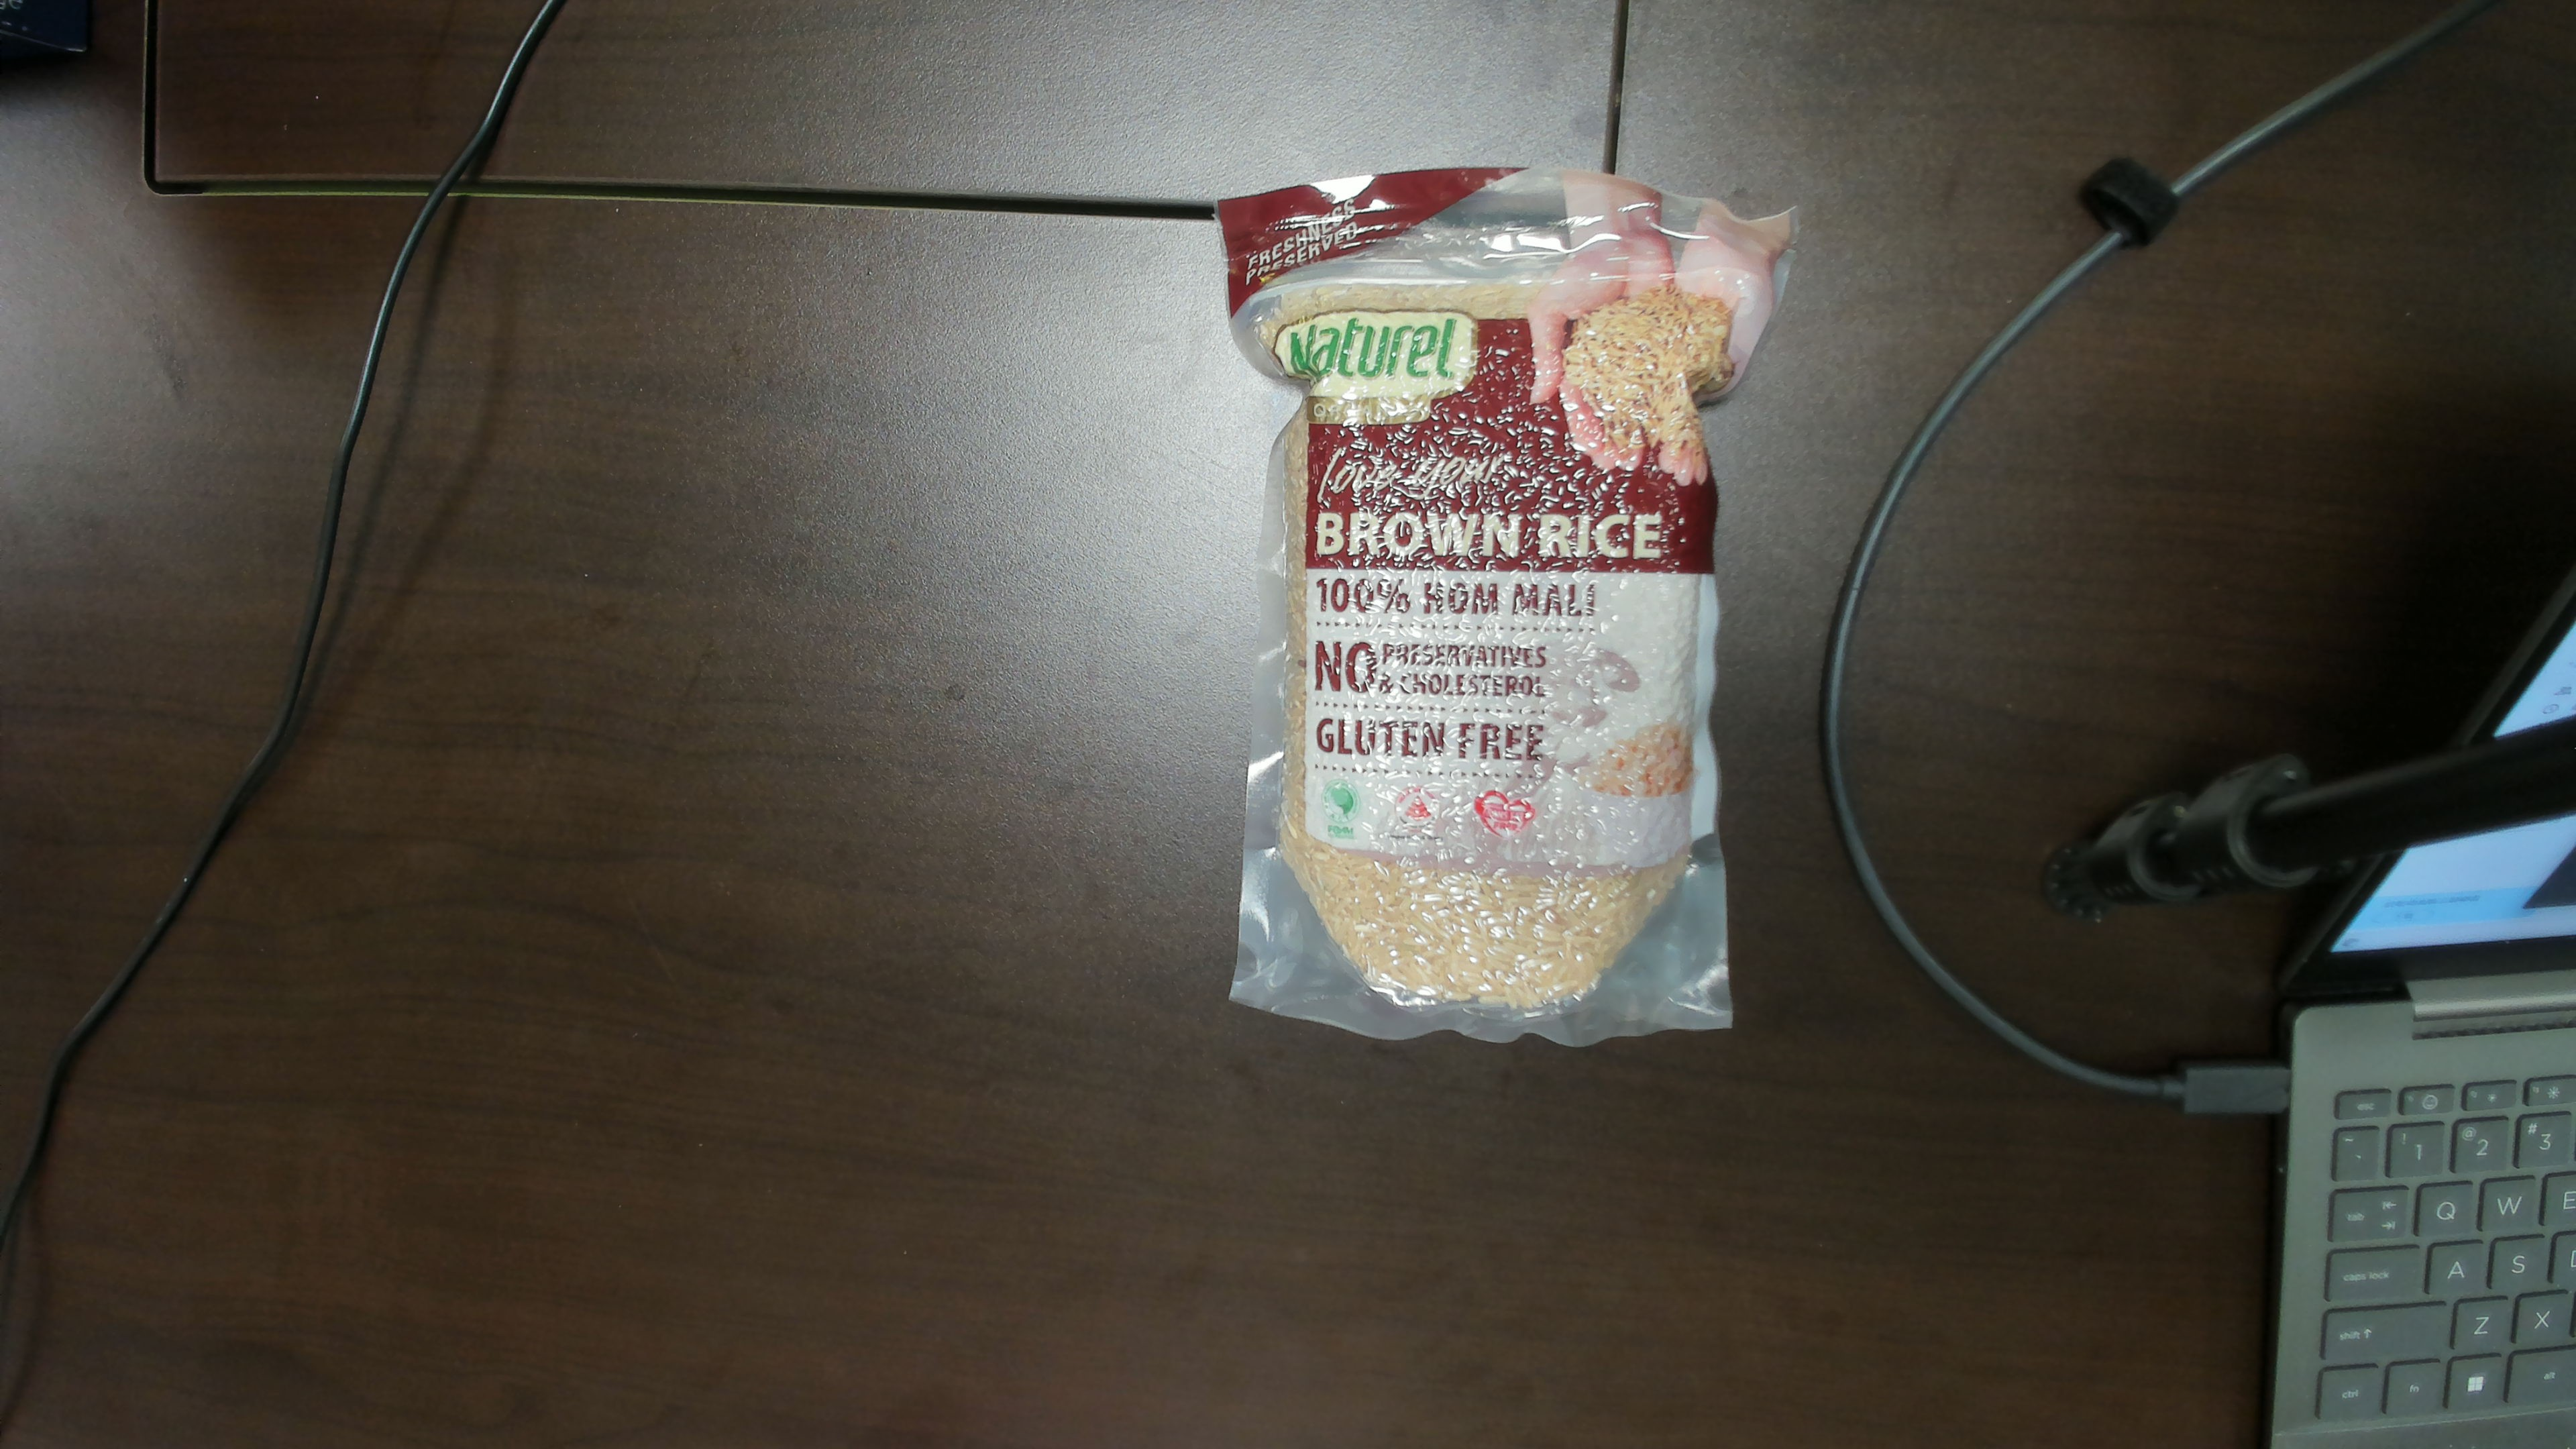Rice(brown-others)_700-799g_NonHalal_Healthy: (1240, 196, 1721, 1044)
